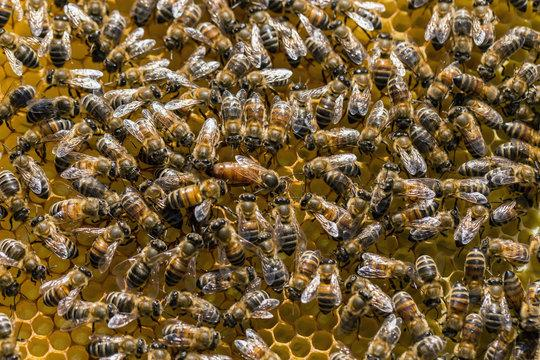Queen-Bee: (209, 155, 285, 192)
worker-bee: (40, 267, 116, 330), (39, 16, 102, 90), (239, 212, 288, 291), (63, 3, 126, 61), (370, 163, 434, 218), (138, 170, 197, 228), (299, 14, 346, 75), (162, 178, 227, 220), (300, 193, 362, 237), (232, 8, 278, 67), (113, 239, 167, 289), (165, 46, 219, 92), (124, 109, 169, 164), (52, 119, 97, 172), (223, 289, 279, 330), (121, 187, 165, 238), (104, 28, 154, 72), (301, 258, 341, 313), (88, 221, 130, 272), (39, 266, 92, 306), (477, 34, 524, 79), (30, 215, 77, 258), (105, 291, 161, 327), (344, 274, 392, 316), (164, 233, 202, 286), (72, 176, 122, 216), (447, 106, 486, 157), (81, 94, 125, 139), (149, 102, 193, 147), (0, 238, 47, 280), (162, 290, 220, 324), (410, 124, 451, 172), (392, 291, 431, 341), (370, 32, 404, 89), (334, 224, 381, 265), (454, 193, 489, 247), (272, 197, 304, 255), (17, 118, 73, 151), (0, 29, 40, 75), (163, 2, 201, 50), (315, 75, 349, 128), (284, 250, 320, 300), (394, 41, 433, 87), (92, 10, 126, 62), (415, 104, 456, 147), (10, 154, 49, 199), (271, 16, 306, 66), (209, 218, 246, 265), (105, 85, 161, 116), (383, 200, 439, 231), (369, 162, 400, 218), (480, 276, 511, 332), (162, 320, 220, 349), (61, 300, 117, 330), (453, 94, 502, 128), (186, 23, 232, 59), (365, 313, 401, 359), (38, 15, 70, 66), (330, 20, 367, 64), (236, 193, 269, 242), (196, 267, 258, 293), (356, 252, 413, 280), (331, 0, 384, 30), (388, 74, 413, 137), (263, 96, 291, 152), (358, 100, 388, 152), (500, 62, 539, 102), (0, 85, 35, 129), (289, 83, 317, 138), (425, 62, 460, 106), (442, 281, 468, 340), (119, 59, 173, 87), (0, 170, 29, 222), (302, 153, 360, 179), (452, 73, 500, 104), (60, 153, 117, 179), (86, 334, 145, 359), (424, 0, 454, 49), (191, 118, 219, 170), (394, 132, 426, 177), (415, 255, 443, 306), (285, 0, 334, 29), (338, 290, 371, 333), (214, 52, 251, 90), (220, 90, 244, 148), (304, 127, 359, 152), (49, 198, 108, 221), (243, 93, 266, 152), (27, 96, 79, 122), (480, 237, 529, 264), (347, 67, 371, 122), (239, 68, 291, 93), (439, 177, 489, 203), (454, 313, 482, 359), (485, 164, 539, 187), (489, 196, 529, 225), (464, 248, 485, 303), (456, 156, 513, 176), (451, 8, 472, 62), (494, 139, 539, 164), (473, 0, 495, 50), (484, 326, 516, 359), (80, 78, 287, 83), (502, 121, 539, 146), (503, 270, 524, 313), (484, 245, 484, 245)
